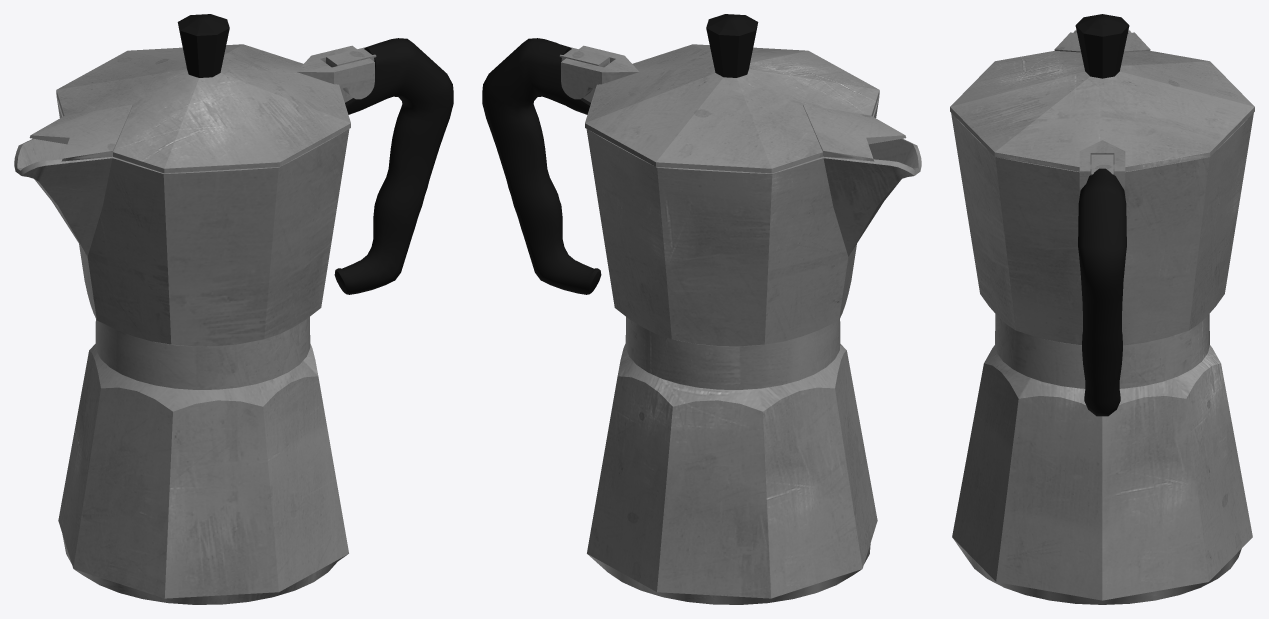
Rendered from obj_moka_pot_2ca52d.glb.
3 views of the same model, side by side, from view 1: azimuth 30°, elevation 25°; view 2: azimuth 150°, elevation 25°; view 3: azimuth 270°, elevation 25° (orthographic).
Parts seen in each view (by area): view 1: obj_moka_pot_2ca52d; view 2: obj_moka_pot_2ca52d; view 3: obj_moka_pot_2ca52d.
Boxes of the visible parts, <box> form: obj_moka_pot_2ca52d: <box>14,14,453,604</box>; obj_moka_pot_2ca52d: <box>482,14,921,604</box>; obj_moka_pot_2ca52d: <box>950,14,1254,604</box>.
Bounding box in the file's own units: 0.1884 × 0.22 × 0.1152.
2 materials, 2 textured.
